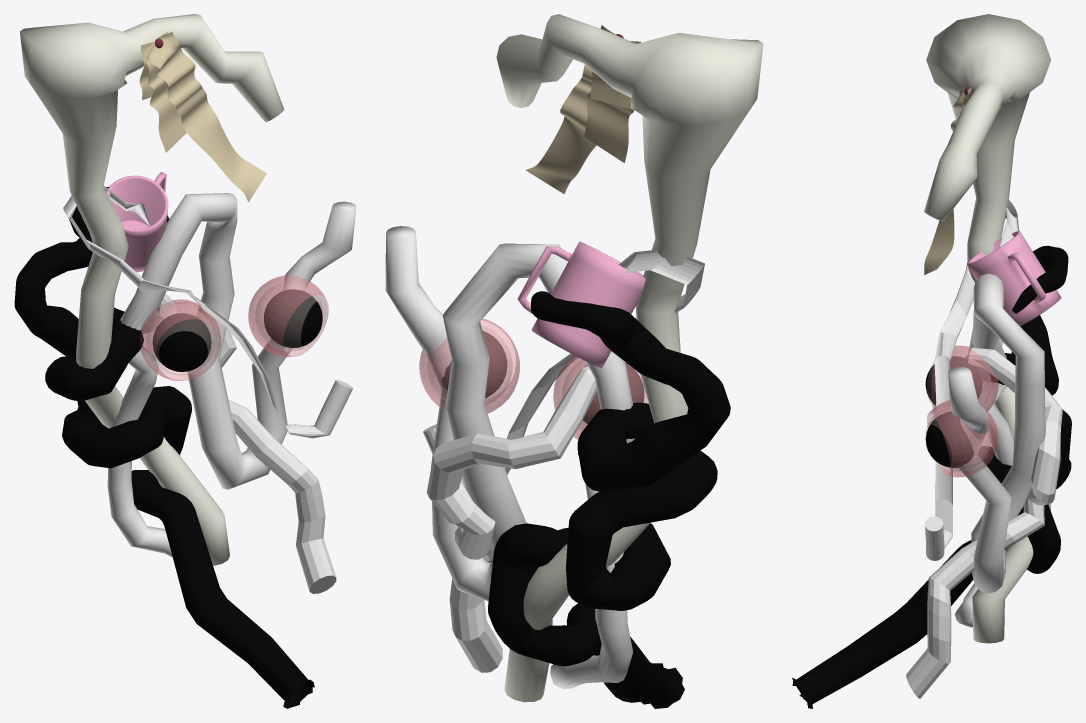
3 renders of one model, left to right at view 1: azimuth 30°, elevation 25°; view 2: azimuth 150°, elevation 25°; view 3: azimuth 270°, elevation 25°, orthographic. The views are drawn at different scales.
Parts seen in each view (by area): view 1: kost, Cylinder, kiski, kiski.001, paper big, kiski.002, lid.001, mug, belok.002, lid, belok.001, belok.003 (+2 smaller); view 2: Cylinder, kost, kiski, kiski.001, mug, lid.001, paper big, kiski.002, belok.002, paper mid, lid, belok.003 (+3 smaller); view 3: kost, kiski, Cylinder, kiski.001, kiski.002, mug, lid.001, belok.002, belok.003, lid, paper big, belok (+1 smaller).
Boxes of the visible parts, box(x1,y1,x2,y2) form: kost: box(20, 14, 284, 565); Cylinder: box(14, 186, 314, 708); kiski: box(107, 193, 356, 557); kiski.001: box(141, 294, 336, 593); paper big: box(146, 32, 266, 202); kiski.002: box(63, 185, 352, 438); lid.001: box(248, 275, 328, 356); mug: box(106, 172, 168, 272); belok.002: box(255, 283, 322, 351); lid: box(140, 299, 220, 380); belok.001: box(153, 313, 211, 371); belok.003: box(264, 289, 322, 347); Cylinder: box(488, 291, 730, 708); kost: box(496, 14, 763, 702); kiski: box(385, 226, 635, 688); kiski.001: box(426, 366, 596, 672); mug: box(517, 241, 645, 368); lid.001: box(419, 318, 519, 413); paper big: box(525, 25, 616, 194); kiski.002: box(423, 249, 704, 474); belok.002: box(427, 325, 512, 405); paper mid: box(584, 91, 634, 162); lid: box(553, 355, 648, 439); belok.003: box(442, 331, 506, 397); kost: box(924, 14, 1051, 643); kiski: box(948, 273, 1045, 627); Cylinder: box(792, 245, 1071, 708); kiski.001: box(906, 347, 1062, 698); kiski.002: box(924, 200, 1019, 560); mug: box(967, 231, 1061, 326); lid.001: box(927, 400, 998, 477); belok.002: box(925, 406, 990, 471); belok.003: box(925, 411, 981, 467); lid: box(932, 345, 998, 411); paper big: box(924, 88, 970, 274); belok: box(927, 351, 990, 407).
Bounding box in the file's own units: 2.21 × 4.37 × 1.81.
